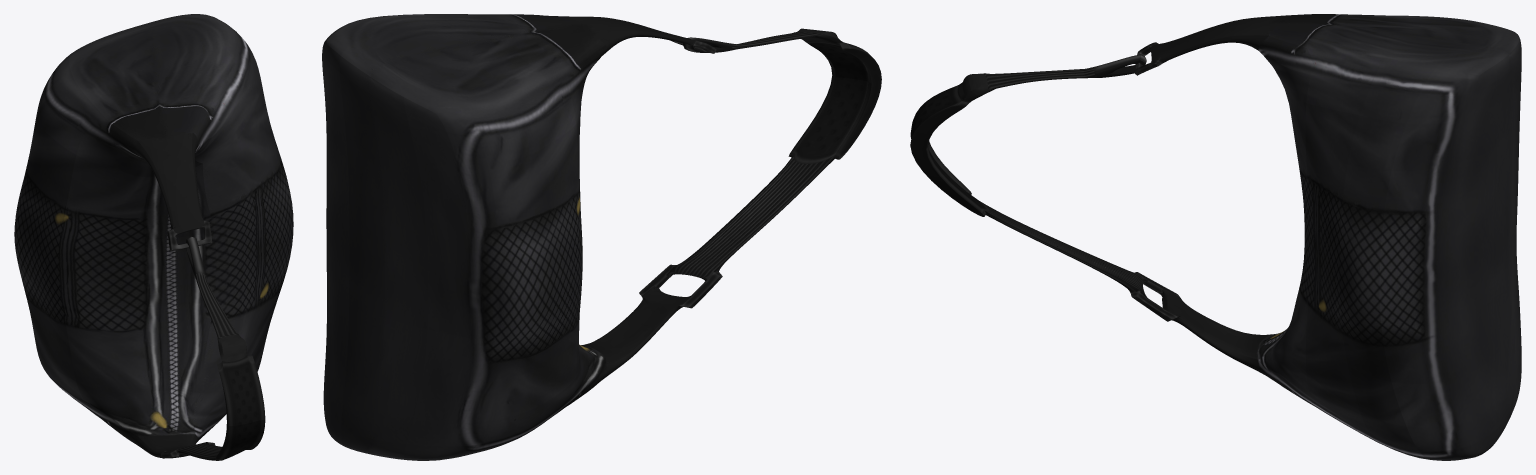
File: 10140_GymBag_v01_L3.obj
3 renders of one model, left to right at view 1: azimuth 30°, elevation 25°; view 2: azimuth 150°, elevation 25°; view 3: azimuth 270°, elevation 25°, orthographic. The views are drawn at different scales.
Visible parts, largest first — view 1: 10140_GymBag_v01; view 2: 10140_GymBag_v01; view 3: 10140_GymBag_v01.
Part boxes in pixels (box(x1,y1,x2,y2)): 10140_GymBag_v01: box(14, 14, 293, 460); 10140_GymBag_v01: box(322, 14, 881, 460); 10140_GymBag_v01: box(910, 14, 1521, 460).
Bounding box in the file's own units: 38.52 × 48.95 × 68.47.
1 material, 1 textured.
